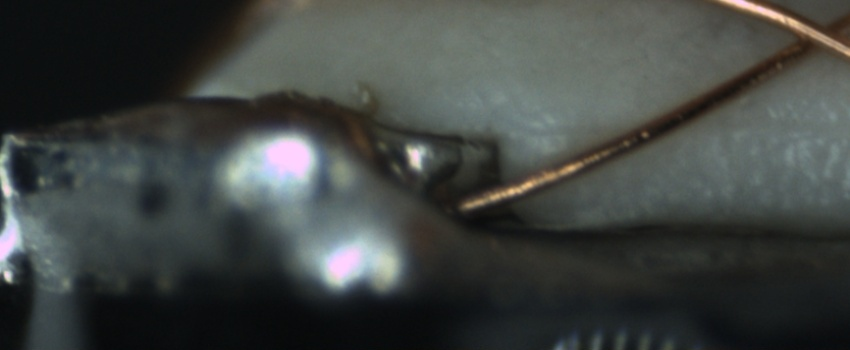CL: (771, 5, 849, 66)
DL: (514, 103, 850, 165)
